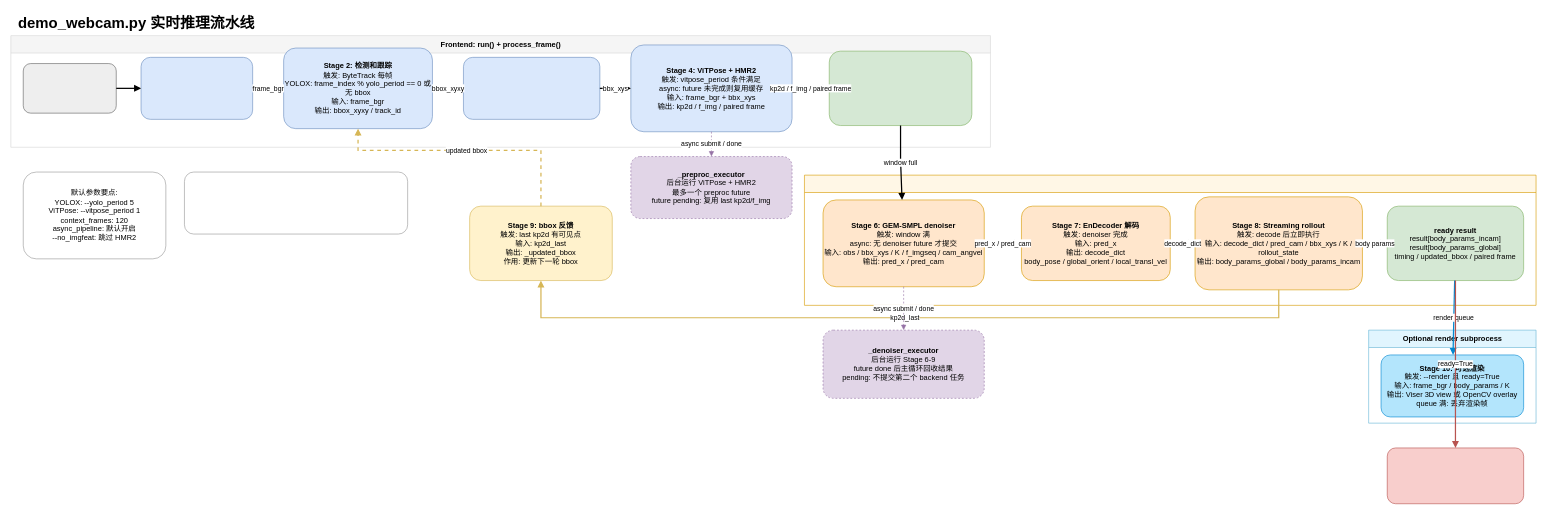
Some shapes in this 1547 by 515 pixel diagram are drawn without their labels. Each missing label, with the box of its shape:
Backend: _run_backend(): (804, 175, 1536, 305)
Stage 1: 取帧 触发: 每轮 cap.read() 输入: video/camera 输出: frame_bgr: (140, 57, 253, 119)
Stage 3: bbox 转换 触发: 有 bbox_xyxy 输入: [x1,y1,x2,y2] 输出: bbx_xys=[cx,cy,size]: (463, 57, 600, 119)
Stage 5: 滑动窗口 触发: 有 bbx/kp2d/f_img 输入: 当前帧特征 输出: 最近 context_frames 帧 未满: warmup: (829, 51, 972, 126)
下游接入点 机器人模仿 / 控制器 / 记录器 建议只消费 ready=True: (1387, 447, 1524, 504)
滑动窗口不是消耗后清空: 窗口满之前只 warmup；满之后保留最近 context_frames 个有效帧。新帧进入时最老帧自动移出。: (184, 171, 408, 234)
输入源 video / webcam --video 或 --camera_id: (23, 63, 116, 113)
